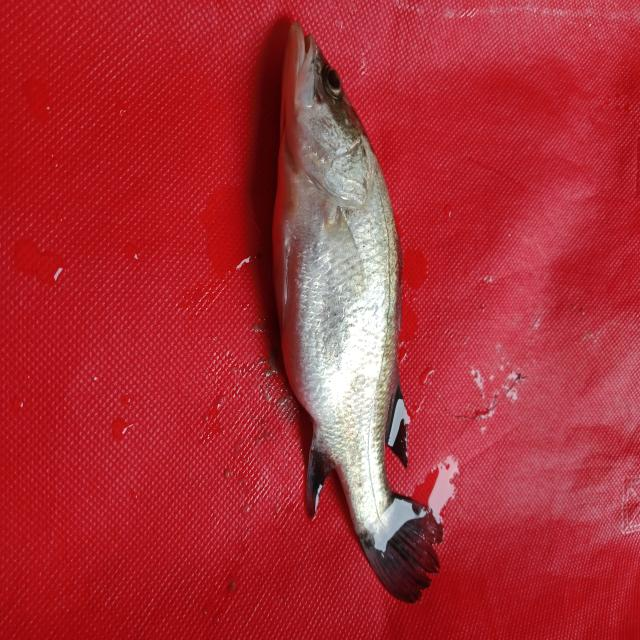ikan: (244, 4, 461, 616)
